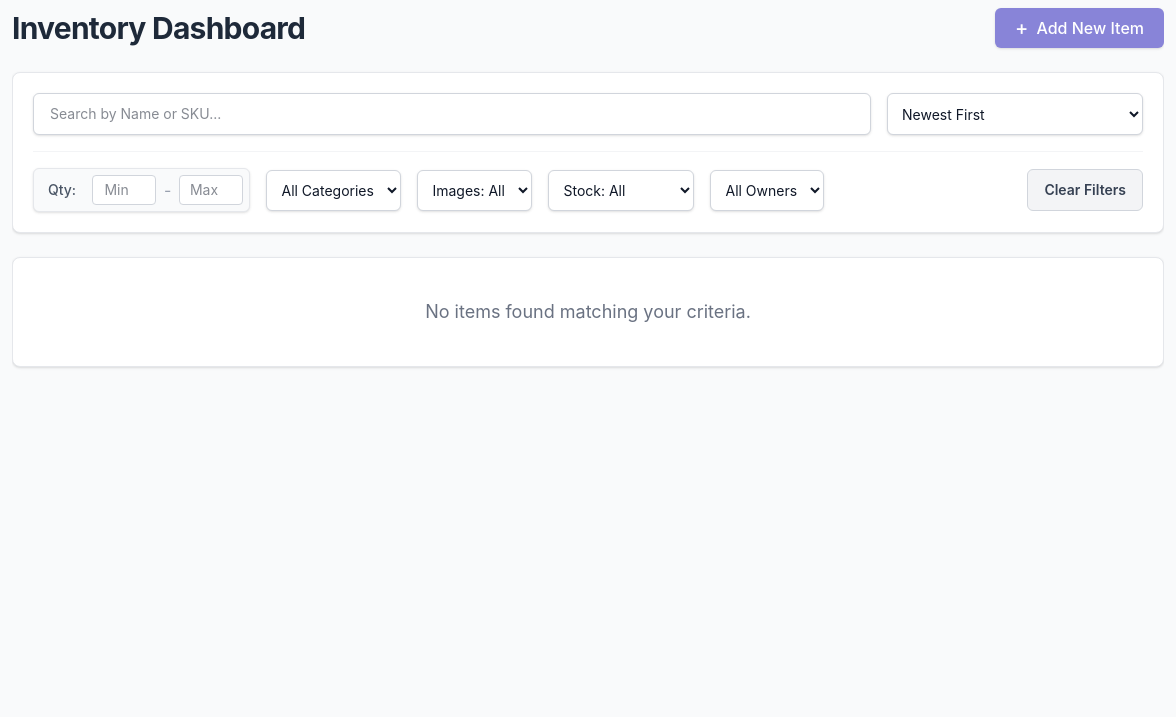
Inventory System Integration › Filtering and Searching › filters for "Low Stock Only"
Select "Low Stock Only" in the 4th dropdown showing "Stock: All" at (622, 190), box left=548, top=170, right=694, bottom=210
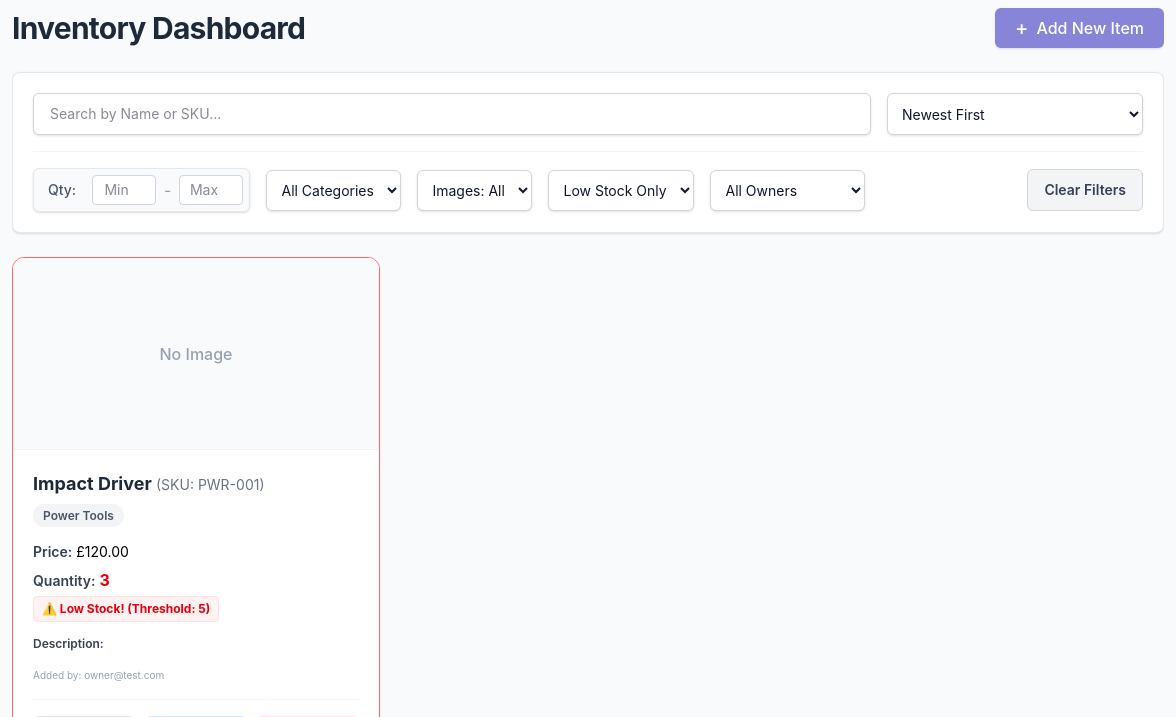
Expected: the heading "Impact Driver (SKU: PWR-001)" is shown, left=33, top=470, right=264, bottom=498
